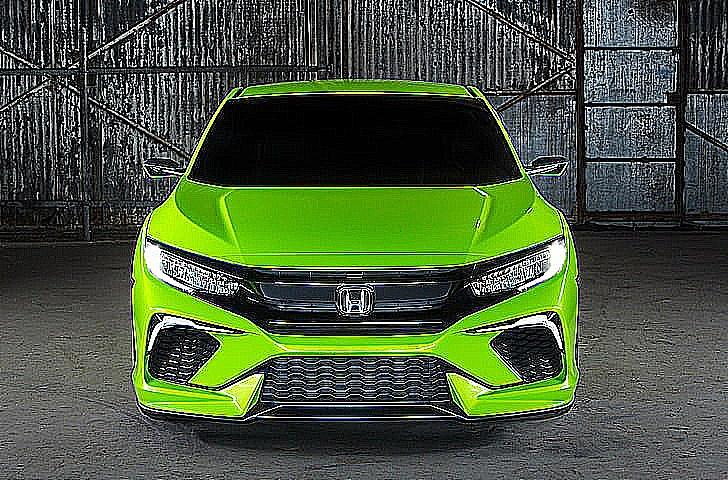Car hood: (138, 175, 571, 274)
Front bumper: (122, 293, 590, 434)
Headlight - -L-: (461, 228, 576, 302)
Headlight - -R-: (135, 237, 249, 308)
Side mirror - -L-: (526, 148, 573, 181)
Side mirror - -R-: (138, 148, 188, 185)
